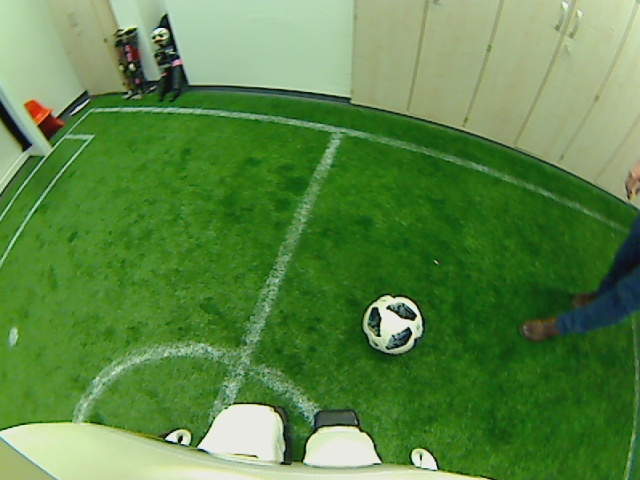ball: (360, 291, 425, 357)
